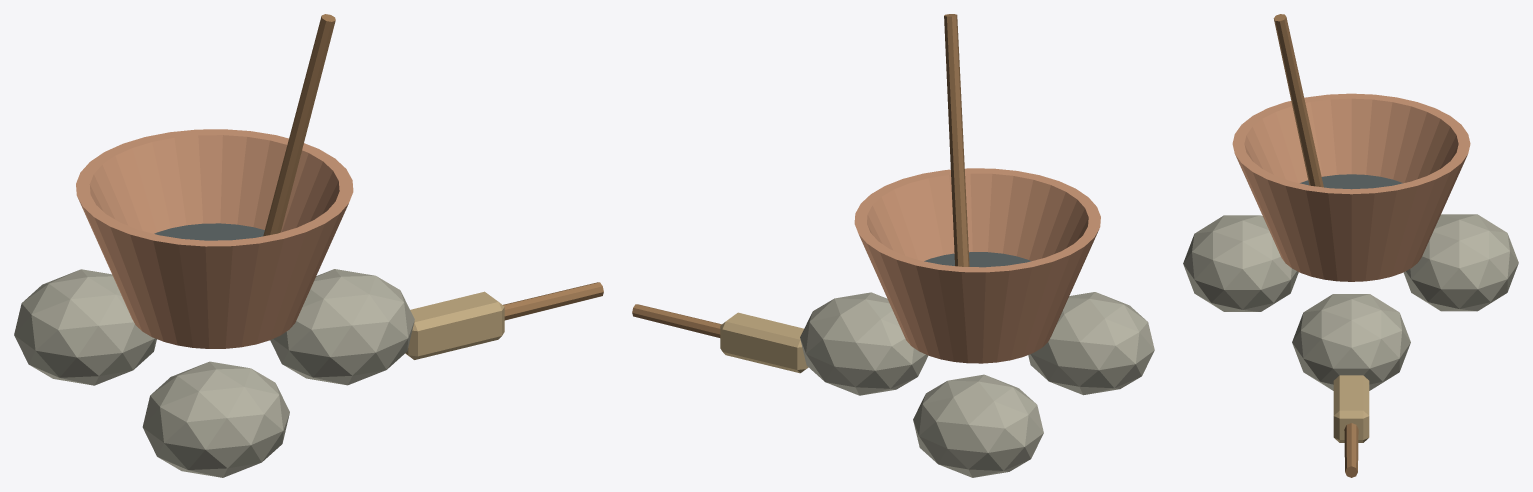
3 renders of one model, left to right at view 1: azimuth 30°, elevation 25°; view 2: azimuth 150°, elevation 25°; view 3: azimuth 270°, elevation 25°, orthographic. The views are drawn at different scales.
Visible parts, largest first — view 1: CE-042 Pitch melting pot and application brush batched; view 2: CE-042 Pitch melting pot and application brush batched; view 3: CE-042 Pitch melting pot and application brush batched.
Part boxes in pixels (x1,y1,x2,y2): CE-042 Pitch melting pot and application brush batched: (14,14,603,477); CE-042 Pitch melting pot and application brush batched: (632,14,1154,477); CE-042 Pitch melting pot and application brush batched: (1183,14,1518,477).
Bounding box in the file's own units: 0.8506 × 0.6426 × 0.5643.
